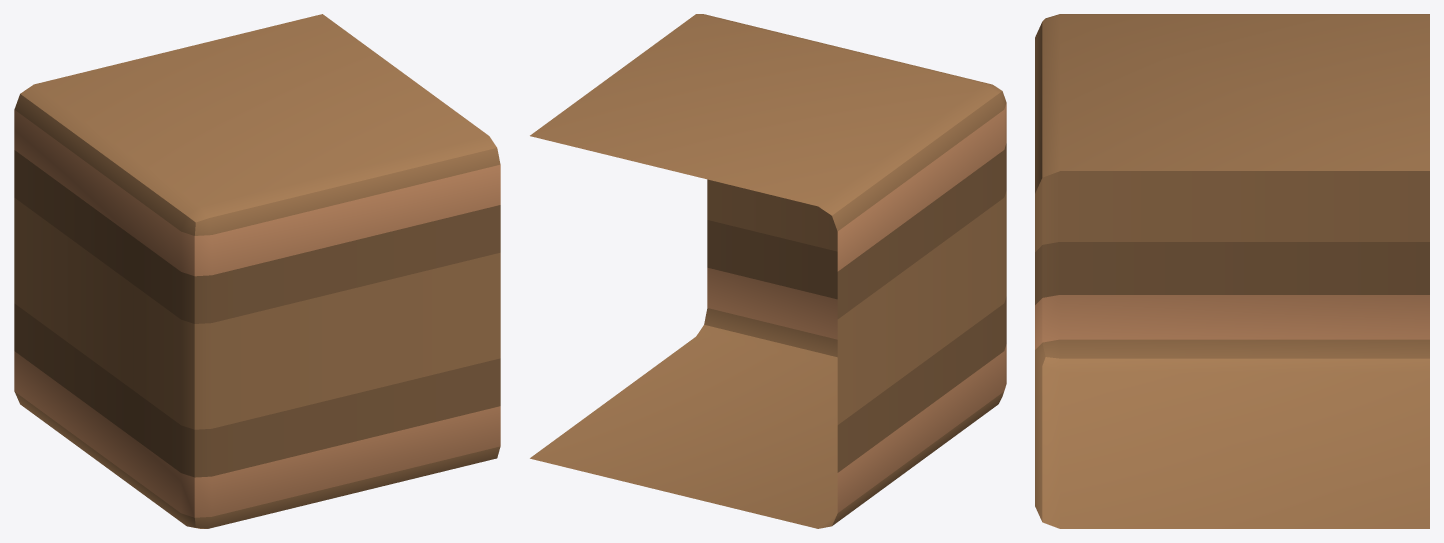
Rendered from Cube_Dirt_Corner.fbx.
3 renders of one model, left to right at view 1: azimuth 30°, elevation 25°; view 2: azimuth 150°, elevation 25°; view 3: azimuth 270°, elevation 25°, orthographic. The views are drawn at different scales.
Parts seen in each view (by area): view 1: Cube_Dirt_Corner; view 2: Cube_Dirt_Corner; view 3: Cube_Dirt_Corner.
Boxes of the visible parts, bbox=[...] form: Cube_Dirt_Corner: bbox=[14, 14, 500, 528]; Cube_Dirt_Corner: bbox=[530, 14, 1006, 528]; Cube_Dirt_Corner: bbox=[1035, 14, 1429, 528].
Bounding box in the file's own units: 200 × 200 × 200.
